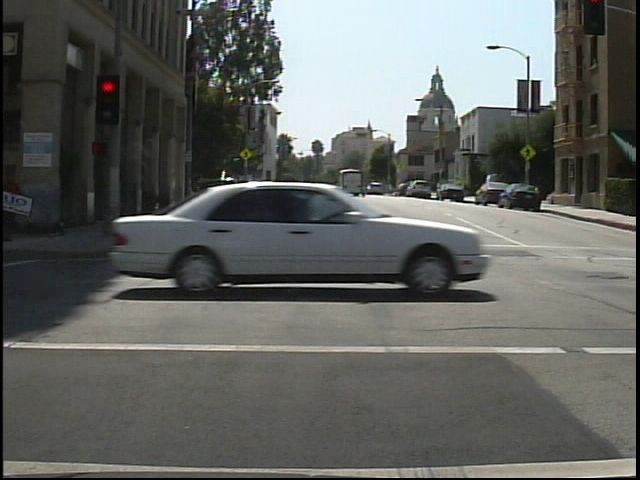car: (61, 177, 489, 311)
